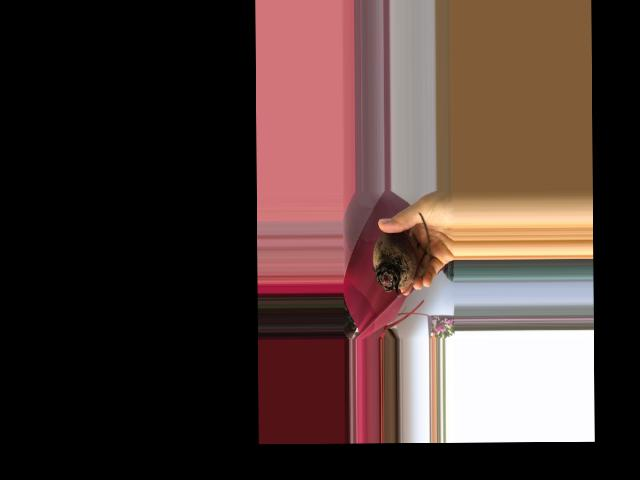beet: (372, 212, 430, 298)
